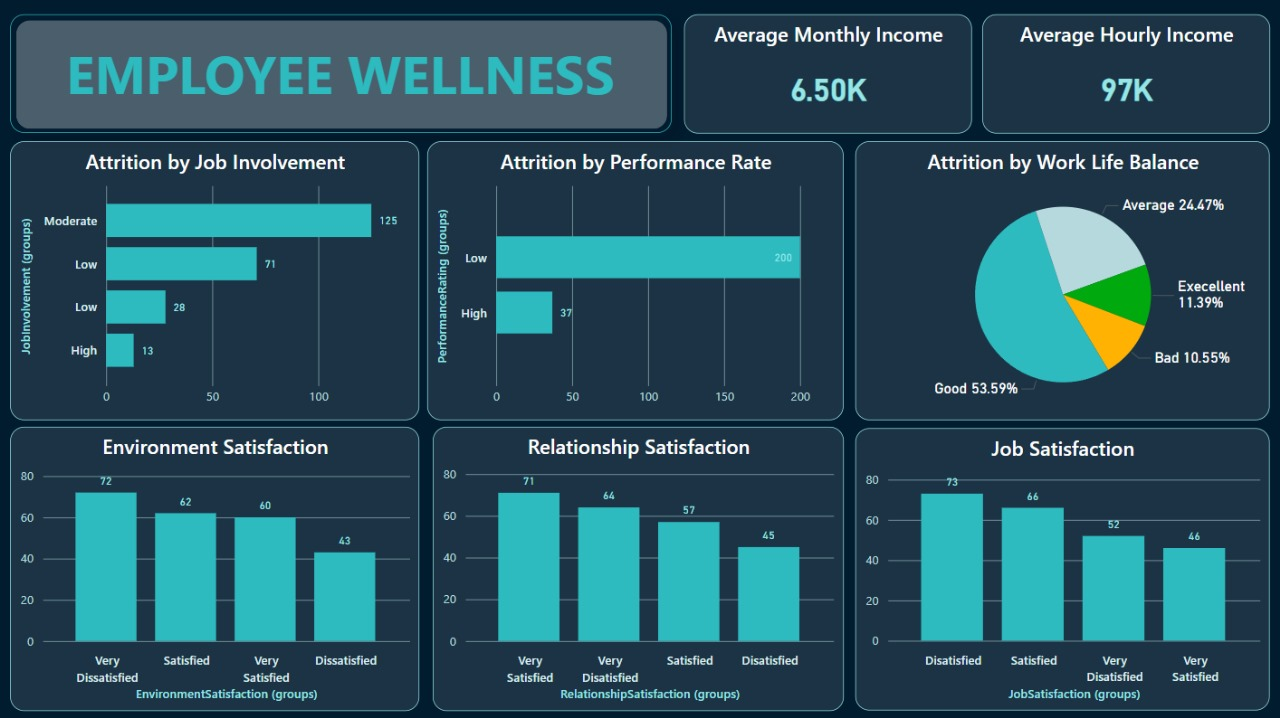

Layout of this report page (visuals, bound fields, positions):
{"tool":"powerbi","page":{"name":"Employee Wellnesss","canvas":[1280,720],"ordinal":4},"visuals":[{"type":"card","title":"Average Monthly Income","fields":{"Values":["Avg(HR-Employee-Attrition.MonthlyIncome)"]},"box":[684.9,14.6,287.5,119],"z":0},{"type":"shape","box":[11.1,15.6,661.1,118.9],"z":1000},{"type":"textbox","box":[9.2,31.1,662.9,102.5],"z":2000},{"type":"columnChart","title":"Environment Satisfaction","fields":{"Category":["HR-Employee-Attrition.EnvironmentSatisfaction (groups)"],"Y":["Sum(HR-Employee-Attrition.Attrition Count)"]},"box":[10.5,428.3,409,284.4],"z":3000},{"type":"pieChart","title":"Attrition by Work Life Balance","fields":{"Category":["HR-Employee-Attrition.WorkLifeBalance (groups)"],"Y":["Sum(HR-Employee-Attrition.Attrition Count)"]},"box":[856.6,142.2,414.2,279.1],"z":4000},{"type":"columnChart","title":"Job Satisfaction","fields":{"Category":["HR-Employee-Attrition.JobSatisfaction (groups)"],"Y":["Sum(HR-Employee-Attrition.Attrition Count)"]},"box":[856.6,430,414.2,282.6],"z":5000},{"type":"columnChart","title":"Relationship Satisfaction","fields":{"Category":["HR-Employee-Attrition.RelationshipSatisfaction (groups)"],"Y":["Sum(HR-Employee-Attrition.Attrition Count)"]},"box":[433.6,428.3,410.7,284.3],"z":6000},{"type":"barChart","title":"Attrition by Job Involvement","fields":{"Category":["HR-Employee-Attrition.JobInvolvement (groups)"],"Y":["Sum(HR-Employee-Attrition.Attrition Count)"]},"box":[10.5,142.2,409,279.1],"z":7000},{"type":"clusteredBarChart","title":"Attrition by Performance Rate","fields":{"Category":["HR-Employee-Attrition.PerformanceRating (groups)"],"Y":["Sum(HR-Employee-Attrition.Attrition Count)"]},"box":[428.3,142.2,416,279.1],"z":8000},{"type":"card","title":"Average Hourly Income","fields":{"Values":["Sum(HR-Employee-Attrition.HourlyRate)"]},"box":[983.4,14.6,287.5,119],"z":9000}]}

Visuals, with their boxes in screenshot pixels (x1, y1, x2, y2), scaled from the page's 1280x720 canvas onto the 1280x718 screenshot:
"Average Monthly Income" card: <region>685, 15, 972, 133</region>
shape: <region>11, 16, 672, 134</region>
textbox: <region>9, 31, 672, 133</region>
"Environment Satisfaction" columnChart: <region>10, 427, 420, 711</region>
"Attrition by Work Life Balance" pieChart: <region>857, 142, 1271, 420</region>
"Job Satisfaction" columnChart: <region>857, 429, 1271, 711</region>
"Relationship Satisfaction" columnChart: <region>434, 427, 844, 711</region>
"Attrition by Job Involvement" barChart: <region>10, 142, 420, 420</region>
"Attrition by Performance Rate" clusteredBarChart: <region>428, 142, 844, 420</region>
"Average Hourly Income" card: <region>983, 15, 1271, 133</region>
